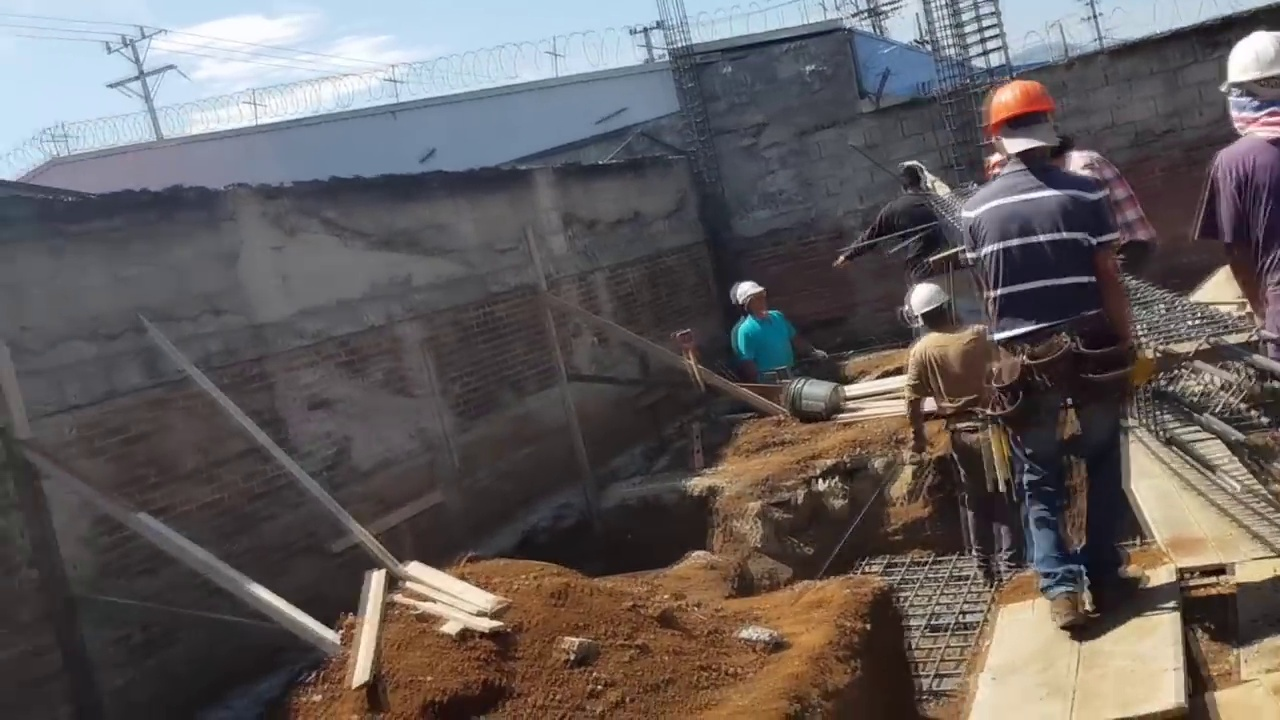helmet: (981, 80, 1062, 130), (1221, 30, 1280, 87), (907, 275, 948, 316), (734, 283, 767, 308)
helmet-off: (896, 160, 933, 198), (1047, 136, 1073, 169)
helmet-on: (979, 79, 1066, 171), (1222, 27, 1280, 141), (904, 275, 958, 336), (734, 281, 772, 319)
person: (965, 69, 1159, 611), (902, 281, 1036, 593), (1209, 22, 1279, 356), (1049, 137, 1167, 284), (846, 162, 955, 319), (727, 280, 817, 379)
